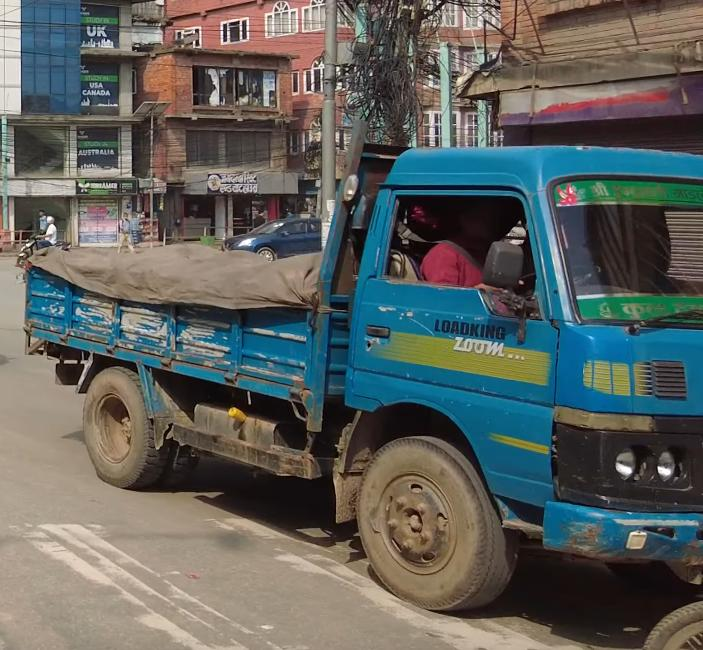car: (219, 199, 339, 265)
mini_truck: (16, 125, 703, 609)
